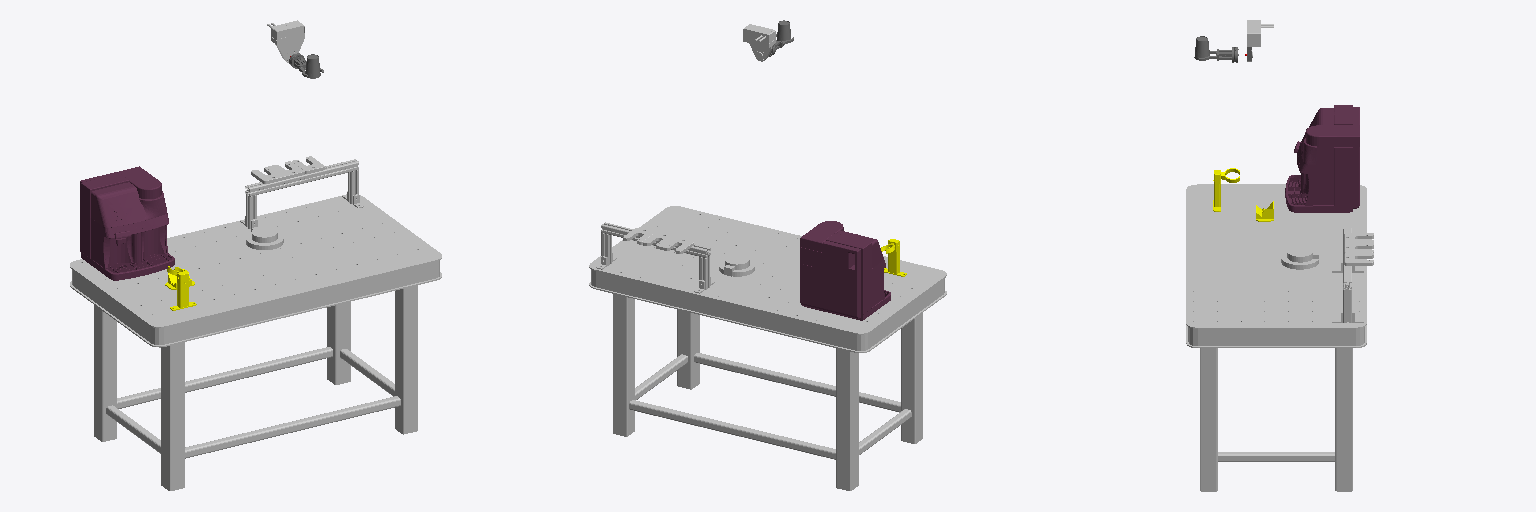
robot.urdf — aubo_e5:
<?xml version="1.0" ?>
<!-- =================================================================================== -->
<!-- |    This document was autogenerated by xacro from /home/mu/IVG2.0/aubo_ros2_ws/src/aubo_ros2_driver/aubo_moveit_config/config/aubo_e5.urdf.xacro | -->
<!-- |    EDITING THIS FILE BY HAND IS NOT RECOMMENDED                                 | -->
<!-- =================================================================================== -->
<robot name="aubo_e5">
  <!-- ===== 机械臂本体 (6-DOF) ===== -->
  <link name="base_link">
    <inertial>
      <origin rpy="0 0 0" xyz="-1.4795E-13 0.0015384 0.020951"/>
      <mass value="0.83419"/>
      <inertia ixx="0.0014414" ixy="7.8809E-15" ixz="8.5328E-16" iyy="0.0013542" iyz="-1.4364E-05" izz="0.0024659"/>
    </inertial>
    <visual>
      <origin rpy="0 0 0" xyz="0 0 0"/>
      <geometry>
        <mesh filename="package://aubo_description/meshes/visual/link0.dae"/>
      </geometry>
      <material name="">
        <color rgba="0.82 0.82 0.82 1"/>
      </material>
    </visual>
    <collision>
      <origin rpy="0 0 0" xyz="0 0 0"/>
      <geometry>
        <mesh filename="package://aubo_description/meshes/collision/link0.stl"/>
      </geometry>
    </collision>
  </link>
  <link name="shoulder_Link">
    <inertial>
      <origin rpy="0 0 0" xyz="0 0.0038 0.0006"/>
      <mass value="5.05"/>
      <inertia ixx="0.0148" ixy="0" ixz="0" iyy="0.0143" iyz="0" izz="0.0095"/>
    </inertial>
    <visual>
      <origin rpy="0 0 0" xyz="0 0 0"/>
      <geometry>
        <mesh filename="package://aubo_description/meshes/visual/link1.dae"/>
      </geometry>
      <material name="">
        <color rgba="0.82 0.82 0.82 1"/>
      </material>
    </visual>
    <collision>
      <origin rpy="0 0 0" xyz="0 0 0"/>
      <geometry>
        <mesh filename="package://aubo_description/meshes/collision/link1.stl"/>
      </geometry>
    </collision>
  </link>
  <joint name="shoulder_joint" type="revolute">
    <origin rpy="0 0 3.1415926535897932384626433832795" xyz="0 0 0.122"/>
    <parent link="base_link"/>
    <child link="shoulder_Link"/>
    <axis xyz="0 0 1"/>
    <limit effort="133" lower="-3.054326190990076759616458844855" start_stop="207" upper="3.054326190990076759616458844855" velocity="2.5964"/>
  </joint>
  <link name="upperArm_Link">
    <inertial>
      <origin rpy="0 0 0" xyz="0.2040 0 0.0196"/>
      <mass value="11.28"/>
      <inertia ixx="0.0305" ixy="0" ixz="0" iyy="0.4505" iyz="0" izz="0.4400"/>
    </inertial>
    <visual>
      <origin rpy="0 0 0" xyz="0 0 0"/>
      <geometry>
        <mesh filename="package://aubo_description/meshes/visual/link2.dae"/>
      </geometry>
      <material name="">
        <color rgba="0.82 0.82 0.82 1"/>
      </material>
    </visual>
    <collision>
      <origin rpy="0 0 0" xyz="0 0 0"/>
      <geometry>
        <mesh filename="package://aubo_description/meshes/collision/link2.stl"/>
      </geometry>
    </collision>
  </link>
  <joint name="upperArm_joint" type="revolute">
    <origin rpy="-1.5707963267948966192313216916398 -1.5707963267948966192313216916398 0" xyz="0 0.1215 0"/>
    <parent link="shoulder_Link"/>
    <child link="upperArm_Link"/>
    <axis xyz="0 0 1"/>
    <limit effort="133" lower="-3.054326190990076759616458844855" start_stop="207" upper="3.054326190990076759616458844855" velocity="2.5964"/>
  </joint>
  <link name="foreArm_Link">
    <inertial>
      <origin rpy="0 0 0" xyz="0.2699 0 0.0992"/>
      <mass value="2.88"/>
      <inertia ixx="0.0033" ixy="0" ixz="0" iyy="0.0575" iyz="0" izz="0.0565"/>
    </inertial>
    <visual>
      <origin rpy="0 0 0" xyz="0 0 0"/>
      <geometry>
        <mesh filename="package://aubo_description/meshes/visual/link3.dae"/>
      </geometry>
      <material name="">
        <color rgba="0.82 0.82 0.82 1"/>
      </material>
    </visual>
    <collision>
      <origin rpy="0 0 0" xyz="0 0 0"/>
      <geometry>
        <mesh filename="package://aubo_description/meshes/collision/link3.stl"/>
      </geometry>
    </collision>
  </link>
  <joint name="foreArm_joint" type="revolute">
    <origin rpy="-3.1415926535897932384626433832795 0 0" xyz="0.408 0 0"/>
    <parent link="upperArm_Link"/>
    <child link="foreArm_Link"/>
    <axis xyz="0 0 1"/>
    <limit effort="133" lower="-3.054326190990076759616458844855" start_stop="207" upper="3.054326190990076759616458844855" velocity="2.5964"/>
  </joint>
  <link name="wrist1_Link">
    <inertial>
      <origin rpy="0 0 0" xyz="0 -0.0997 -0.0780"/>
      <mass value="1.62"/>
      <inertia ixx="0.0023" ixy="0" ixz="0" iyy="0.0013" iyz="0" izz="0.0022"/>
    </inertial>
    <visual>
      <origin rpy="0 0 0" xyz="0 0 0"/>
      <geometry>
        <mesh filename="package://aubo_description/meshes/visual/link4.dae"/>
      </geometry>
      <material name="">
        <color rgba="0.82 0.82 0.82 1"/>
      </material>
    </visual>
    <collision>
      <origin rpy="0 0 0" xyz="0 0 0"/>
      <geometry>
        <mesh filename="package://aubo_description/meshes/collision/link4.stl"/>
      </geometry>
    </collision>
  </link>
  <joint name="wrist1_joint" type="revolute">
    <origin rpy="3.1415926535897932384626433832795 0 1.5707963267948966192313216916398" xyz="0.376 0 0"/>
    <parent link="foreArm_Link"/>
    <child link="wrist1_Link"/>
    <axis xyz="0 0 1"/>
    <limit effort="13.5" lower="-3.054326190990076759616458844855" start_stop="34" upper="3.054326190990076759616458844855" velocity="3.1105"/>
  </joint>
  <link name="wrist2_Link">
    <inertial>
      <origin rpy="0 0 0" xyz="0 -0.0028 -0.0030"/>
      <mass value="1.62"/>
      <inertia ixx="0.0023" ixy="0" ixz="0" iyy="0.0013" iyz="0" izz="0.0022"/>
    </inertial>
    <visual>
      <origin rpy="0 0 0" xyz="0 0 0"/>
      <geometry>
        <mesh filename="package://aubo_description/meshes/visual/link5.dae"/>
      </geometry>
      <material name="">
        <color rgba="0.82 0.82 0.82 1"/>
      </material>
    </visual>
    <collision>
      <origin rpy="0 0 0" xyz="0 0 0"/>
      <geometry>
        <mesh filename="package://aubo_description/meshes/collision/link5.stl"/>
      </geometry>
    </collision>
  </link>
  <joint name="wrist2_joint" type="revolute">
    <origin rpy="-1.5707963267948966192313216916398 0 0" xyz="0 0.1025 0"/>
    <parent link="wrist1_Link"/>
    <child link="wrist2_Link"/>
    <axis xyz="0 0 1"/>
    <limit effort="13.5" lower="-3.054326190990076759616458844855" start_stop="34" upper="3.054326190990076759616458844855" velocity="3.1105"/>
  </joint>
  <link name="wrist3_Link">
    <inertial>
      <origin rpy="0 0 0" xyz="0 0 -0.0442"/>
      <mass value="0.5"/>
      <inertia ixx="0.00139395" ixy="0" ixz="0" iyy="0.00139882" iyz="0" izz="0.00224092"/>
    </inertial>
    <visual>
      <origin rpy="0 0 0" xyz="0 0 0"/>
      <geometry>
        <mesh filename="package://aubo_description/meshes/visual/link6.dae"/>
      </geometry>
      <material name="">
        <color rgba="0.82 0.82 0.82 1"/>
      </material>
    </visual>
    <collision>
      <origin rpy="0 0 0" xyz="0 0 0"/>
      <geometry>
        <mesh filename="package://aubo_description/meshes/collision/link6.stl"/>
      </geometry>
    </collision>
  </link>
  <joint name="wrist3_joint" type="revolute">
    <origin rpy="1.5707963267948966192313216916398 0 1.7907E-15" xyz="0 -0.094 0"/>
    <parent link="wrist2_Link"/>
    <child link="wrist3_Link"/>
    <axis xyz="0 0 1"/>
    <limit effort="13.5" lower="-3.054326190990076759616458844855" start_stop="34" upper="3.054326190990076759616458844855" velocity="3.1105"/>
  </joint>
  <link name="world"/>
  <!-- ===== 底座（咖啡机总装模型 pedestal_Link） ===== -->
  <link name="pedestal_Link">
    <inertial>
      <origin rpy="0 0 0" xyz="0.0024005 -0.14873 -0.0020194"/>
      <mass value="180.93"/>
      <inertia ixx="10.702" ixy="6.7618E-17" ixz="3.0187E-14" iyy="41.01" iyz="1.466E-07" izz="32.457"/>
    </inertial>
    <visual>
      <origin rpy="0 0 0" xyz="0 0 0"/>
      <geometry>
        <mesh filename="package://aubo_description/meshes/visual/pedestal_link.stl"/>
      </geometry>
      <material name="">
        <color rgba="0.82 0.82 0.82 1"/>
      </material>
    </visual>
    <collision>
      <origin rpy="0 0 0" xyz="0 0 0"/>
      <geometry>
        <mesh filename="package://aubo_description/meshes/collision/pedestal_link.stl"/>
      </geometry>
    </collision>
  </link>
  <joint name="world_to_pedestal" type="fixed">
    <parent link="world"/>
    <child link="pedestal_Link"/>
    <origin rpy="0.0 0.0 0.0" xyz="0.0 0.0 0.0"/>
  </joint>
  <joint name="base_joint" type="fixed">
    <origin rpy="0 0 0" xyz="0.10483 0.10483 0.028"/>
    <parent link="pedestal_Link"/>
    <child link="base_link"/>
  </joint>
  <!-- ===== 咖啡机总装模型配件 ===== -->
  <link name="cup0_Link">
    <inertial>
      <origin rpy="0 0 0" xyz="0.0459046653140415 0.0335578409178754 0.00298286778797363"/>
      <mass value="1.42763211505643"/>
      <inertia ixx="0.00133864759857838" ixy="-0.000153798571779387" ixz="-3.31742934007893E-05" iyy="0.00208448111254178" iyz="-3.67284842420613E-05" izz="0.0011896985575748"/>
    </inertial>
    <visual>
      <origin rpy="0 0 0" xyz="0 0 0"/>
      <geometry>
        <mesh filename="package://aubo_description/meshes/visual/cup0_link.stl"/>
      </geometry>
      <material name="">
        <color rgba="1 1 0 1"/>
      </material>
    </visual>
    <collision>
      <origin rpy="0 0 0" xyz="0 0 0"/>
      <geometry>
        <mesh filename="package://aubo_description/meshes/collision/cup0_link.stl"/>
      </geometry>
    </collision>
  </link>
  <joint name="cup0_joint" type="fixed">
    <origin rpy="1.5708 0 1.5708" xyz="-0.4225 -0.0925 -0.012"/>
    <parent link="pedestal_Link"/>
    <child link="cup0_Link"/>
  </joint>
  <link name="lizhu_Link">
    <inertial>
      <origin rpy="0 0 0" xyz="0.012277 0.082104 1.7053E-05"/>
      <mass value="0.86598"/>
      <inertia ixx="0.0014347" ixy="1.5778E-05" ixz="1.1895E-08" iyy="0.00066764" iyz="3.1238E-05" izz="0.0012088"/>
    </inertial>
    <visual>
      <origin rpy="0 0 0" xyz="0 0 0"/>
      <geometry>
        <mesh filename="package://aubo_description/meshes/visual/lizhu_link.stl"/>
      </geometry>
      <material name="">
        <color rgba="1 1 0 1"/>
      </material>
    </visual>
    <collision>
      <origin rpy="0 0 0" xyz="0 0 0"/>
      <geometry>
        <mesh filename="package://aubo_description/meshes/collision/lizhu_link.stl"/>
      </geometry>
    </collision>
  </link>
  <joint name="lizhu_joint" type="fixed">
    <origin rpy="1.5708 0 1.5708" xyz="-0.525 -0.2625 0.006"/>
    <parent link="pedestal_Link"/>
    <child link="lizhu_Link"/>
  </joint>
  <link name="coffee_Link">
    <inertial>
      <origin rpy="0 0 0" xyz="0.01588 0.20584 0.0021911"/>
      <mass value="91.454"/>
      <inertia ixx="0.89876" ixy="0.0020091" ixz="-0.10749" iyy="1.0151" iyz="0.023803" izz="0.44104"/>
    </inertial>
    <visual>
      <origin rpy="0 0 0" xyz="0 0 0"/>
      <geometry>
        <mesh filename="package://aubo_description/meshes/visual/coffee_link.stl"/>
      </geometry>
      <material name="">
        <color rgba="0.42745 0.24706 0.35686 1"/>
      </material>
    </visual>
    <collision>
      <origin rpy="0 0 0" xyz="0 0 0"/>
      <geometry>
        <mesh filename="package://aubo_description/meshes/collision/coffee_link.stl"/>
      </geometry>
    </collision>
  </link>
  <joint name="coffee_joint" type="fixed">
    <origin rpy="1.5708 0 1.5708" xyz="-0.53995 0.20318 0.046"/>
    <parent link="pedestal_Link"/>
    <child link="coffee_Link"/>
  </joint>
  <!-- ===== 末端执行器: 相机 ===== -->
  <link name="camera_Link">
    <inertial>
      <origin rpy="0 0 0" xyz="-0.0005963 0.085972 -0.026401"/>
      <mass value="0.72743"/>
      <inertia ixx="0.00064649" ixy="2.7688E-06" ixz="-2.0272E-05" iyy="0.0013072" iyz="8.2399E-05" izz="0.0014971"/>
    </inertial>
    <visual>
      <origin rpy="0 0 0" xyz="0 0 0"/>
      <geometry>
        <mesh filename="package://aubo_description/meshes/visual/camera_link.stl"/>
      </geometry>
      <material name="">
        <color rgba="0.82 0.82 0.82 1"/>
      </material>
    </visual>
    <collision>
      <origin rpy="0 0 0" xyz="0 0 0"/>
      <geometry>
        <mesh filename="package://aubo_description/meshes/collision/camera_link.stl"/>
      </geometry>
    </collision>
  </link>
  <joint name="camera_joint" type="fixed">
    <origin rpy="0.0 0.0 0.0" xyz="0.0 0.0 0.020"/>
    <parent link="wrist3_Link"/>
    <child link="camera_Link"/>
  </joint>
  <!-- ===== 末端执行器: 快换法兰 ===== -->
  <link name="kuaihuan_Link">
    <inertial>
      <origin rpy="0 0 0" xyz="-0.00074639 7.4616E-05 0.0097884"/>
      <mass value="0.21939"/>
      <inertia ixx="6.3771E-05" ixy="4.2875E-07" ixz="-1.7848E-07" iyy="6.9403E-05" iyz="-4.5085E-07" izz="0.0001149"/>
    </inertial>
    <visual>
      <origin rpy="0 0 0" xyz="0 0 0"/>
      <geometry>
        <mesh filename="package://aubo_description/meshes/visual/kuaihuan_link.stl"/>
      </geometry>
      <material name="">
        <color rgba="0.82 0.82 0.82 1"/>
      </material>
    </visual>
    <collision>
      <origin rpy="0 0 0" xyz="0 0 0"/>
      <geometry>
        <mesh filename="package://aubo_description/meshes/collision/kuaihuan_link.stl"/>
      </geometry>
    </collision>
  </link>
  <joint name="kuaihuan_joint" type="fixed">
    <origin rpy="0 0 3.1416" xyz="0 0 0.0215"/>
    <parent link="camera_Link"/>
    <child link="kuaihuan_Link"/>
  </joint>
  <link name="gripper1coffeecup_Link">
    <visual>
      <origin rpy="0 0 0" xyz="0 0 0"/>
      <geometry>
        <mesh filename="package://aubo_description/meshes/visual/gripper1coffeecup_link.stl"/>
      </geometry>
      <material name="gripper1coffeecup_material">
        <color rgba="0.5 0.5 0.5 1.0"/>
      </material>
    </visual>
    <collision>
      <origin rpy="0 0 0" xyz="0 0 0"/>
      <geometry>
        <mesh filename="package://aubo_description/meshes/collision/gripper1coffeecup_link.stl"/>
      </geometry>
    </collision>
  </link>
  <joint name="kuaihuan_to_gripper1coffeecup" type="fixed">
    <parent link="kuaihuan_Link"/>
    <child link="gripper1coffeecup_Link"/>
    <origin rpy="0 0 0" xyz="0 0 0.02"/>
  </joint>
  <!-- Tool Center Point -->
  <link name="tool_tcp">
    <visual>
      <origin rpy="0 0 0" xyz="0 0 0"/>
      <geometry>
        <sphere radius="0.005"/>
      </geometry>
      <material name="tcp_marker">
        <color rgba="1.0 0.0 0.0 1.0"/>
      </material>
    </visual>
  </link>
  <joint name="wrist3_to_tcp" type="fixed">
    <parent link="wrist3_Link"/>
    <child link="tool_tcp"/>
    <origin rpy="0.0 0.0 0.0" xyz="0.0 0.0 0.0235"/>
  </joint>
  <transmission name="shoulder_joint_trans">
    <type>transmission_interface/SimpleTransmission</type>
    <joint name="shoulder_joint">
      <hardwareInterface>hardware_interface/PositionJointInterface</hardwareInterface>
    </joint>
    <actuator name="shoulder_joint_motor">
      <mechanicalReduction>1</mechanicalReduction>
    </actuator>
  </transmission>
  <transmission name="upperArm_joint_trans">
    <type>transmission_interface/SimpleTransmission</type>
    <joint name="upperArm_joint">
      <hardwareInterface>hardware_interface/PositionJointInterface</hardwareInterface>
    </joint>
    <actuator name="upperArm_joint_motor">
      <mechanicalReduction>1</mechanicalReduction>
    </actuator>
  </transmission>
  <transmission name="foreArm_joint_trans">
    <type>transmission_interface/SimpleTransmission</type>
    <joint name="foreArm_joint">
      <hardwareInterface>hardware_interface/PositionJointInterface</hardwareInterface>
    </joint>
    <actuator name="foreArm_joint_motor">
      <mechanicalReduction>1</mechanicalReduction>
    </actuator>
  </transmission>
  <transmission name="wrist1_joint_trans">
    <type>transmission_interface/SimpleTransmission</type>
    <joint name="wrist1_joint">
      <hardwareInterface>hardware_interface/PositionJointInterface</hardwareInterface>
    </joint>
    <actuator name="wrist1_joint_motor">
      <mechanicalReduction>1</mechanicalReduction>
    </actuator>
  </transmission>
  <transmission name="wrist2_joint_trans">
    <type>transmission_interface/SimpleTransmission</type>
    <joint name="wrist2_joint">
      <hardwareInterface>hardware_interface/PositionJointInterface</hardwareInterface>
    </joint>
    <actuator name="wrist2_joint_motor">
      <mechanicalReduction>1</mechanicalReduction>
    </actuator>
  </transmission>
  <transmission name="wrist3_joint_trans">
    <type>transmission_interface/SimpleTransmission</type>
    <joint name="wrist3_joint">
      <hardwareInterface>hardware_interface/PositionJointInterface</hardwareInterface>
    </joint>
    <actuator name="wrist3_joint_motor">
      <mechanicalReduction>1</mechanicalReduction>
    </actuator>
  </transmission>
  <ros2_control name="auboHardwareInterface" type="system">
    <hardware>
      <plugin>fake_components/GenericSystem</plugin>
      <param name="fake_sensor_commands">False</param>
      <param name="state_following_offset">0.0</param>
    </hardware>
    <joint name="shoulder_joint">
      <command_interface name="position">
        <param name="min">-3.05</param>
        <param name="max">3.05</param>
      </command_interface>
      <state_interface name="position"/>
      <state_interface name="velocity"/>
    </joint>
    <joint name="upperArm_joint">
      <command_interface name="position">
        <param name="min">-3.05</param>
        <param name="max">3.05</param>
      </command_interface>
      <state_interface name="position"/>
      <state_interface name="velocity"/>
    </joint>
    <joint name="foreArm_joint">
      <command_interface name="position">
        <param name="min">-3.05</param>
        <param name="max">3.05</param>
      </command_interface>
      <state_interface name="position"/>
      <state_interface name="velocity"/>
    </joint>
    <joint name="wrist1_joint">
      <command_interface name="position">
        <param name="min">-3.05</param>
        <param name="max">3.05</param>
      </command_interface>
      <state_interface name="position"/>
      <state_interface name="velocity"/>
    </joint>
    <joint name="wrist2_joint">
      <command_interface name="position">
        <param name="min">-3.05</param>
        <param name="max">3.05</param>
      </command_interface>
      <state_interface name="position"/>
      <state_interface name="velocity"/>
    </joint>
    <joint name="wrist3_joint">
      <command_interface name="position">
        <param name="min">-3.05</param>
        <param name="max">3.05</param>
      </command_interface>
      <state_interface name="position"/>
      <state_interface name="velocity"/>
    </joint>
  </ros2_control>
</robot>

--- Render facts (derived) ---
Views: 3 orthographic renders of the robot side by side, from view 1: azimuth 30°, elevation 25°; view 2: azimuth 150°, elevation 25°; view 3: azimuth 270°, elevation 25°.
Model aubo_e5 with 16 links and 15 joints (6 revolute, 9 fixed), rooted at world, posed every joint at zero.
Visible links, largest first — view 1: pedestal_Link, coffee_Link, camera_Link, base_link, lizhu_Link, gripper1coffeecup_Link; view 2: pedestal_Link, coffee_Link, camera_Link, base_link; view 3: pedestal_Link, coffee_Link, base_link, gripper1coffeecup_Link.
Link boxes in pixels (left/top/right/bottom): pedestal_Link: left=70, top=156, right=441, bottom=490; coffee_Link: left=80, top=166, right=174, bottom=280; camera_Link: left=267, top=20, right=304, bottom=62; base_link: left=246, top=226, right=283, bottom=249; lizhu_Link: left=167, top=266, right=196, bottom=310; gripper1coffeecup_Link: left=289, top=53, right=323, bottom=78; pedestal_Link: left=589, top=206, right=946, bottom=490; coffee_Link: left=800, top=221, right=890, bottom=320; camera_Link: left=743, top=24, right=775, bottom=61; base_link: left=719, top=254, right=754, bottom=276; pedestal_Link: left=1186, top=184, right=1373, bottom=491; coffee_Link: left=1285, top=105, right=1359, bottom=212; base_link: left=1281, top=246, right=1318, bottom=269; gripper1coffeecup_Link: left=1194, top=36, right=1238, bottom=62.
Size in the robot's own frame: 1.5 by 0.83 by 2.02 metres.
7 mesh visuals loaded from 14 distinct referenced files (6 binary STL, 1 Collada DAE); not drawn: 7 (reference not matched to a file when rendering).
